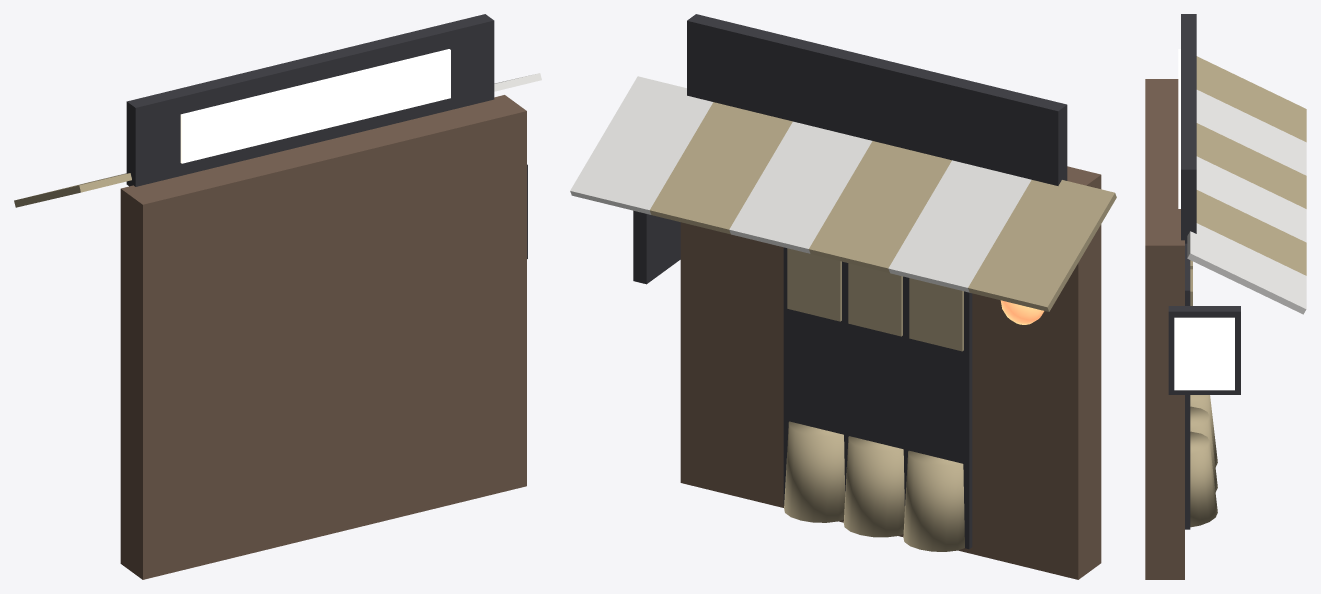
Rendered from prop_mise_kome.glb.
3 renders of one model, left to right at view 1: azimuth 30°, elevation 25°; view 2: azimuth 150°, elevation 25°; view 3: azimuth 270°, elevation 25°, orthographic. The views are drawn at different scales.
Visible parts, largest first — view 1: mise_kome; view 2: mise_kome; view 3: mise_kome.
Part boxes in pixels (x1,y1,x2,y2): mise_kome: (14, 14, 541, 579); mise_kome: (570, 14, 1116, 579); mise_kome: (1145, 14, 1306, 579).
Bounding box in the file's own units: 3.6 × 3.39 × 1.22.
